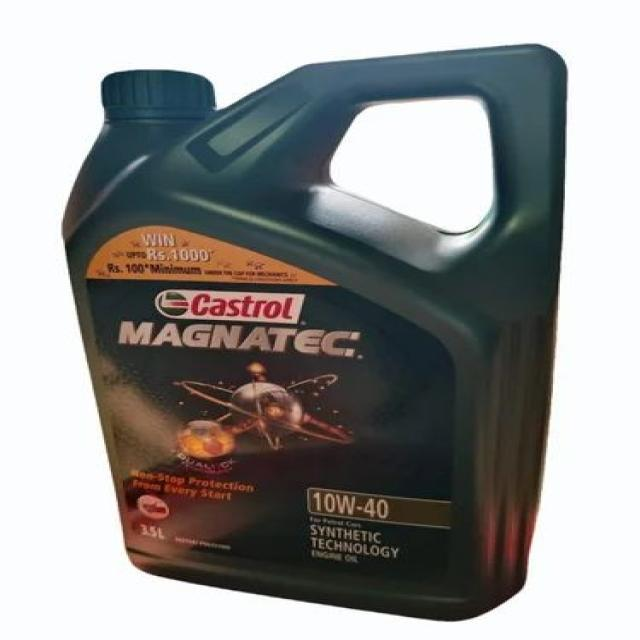motor_oil: (60, 65, 551, 625)
